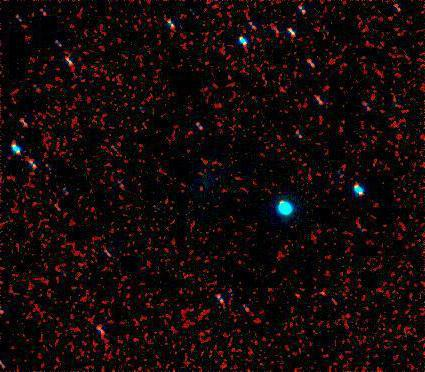star: (314, 285, 344, 315)
